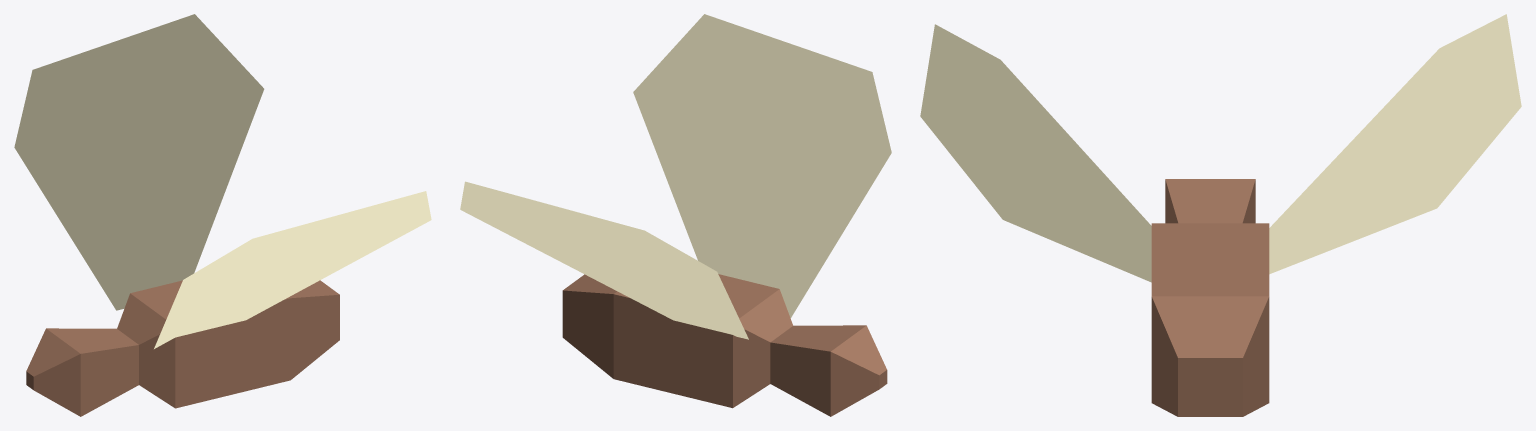
The model's file is MothMesh.fbx.
3 views of the same model, side by side, from view 1: azimuth 30°, elevation 25°; view 2: azimuth 150°, elevation 25°; view 3: azimuth 270°, elevation 25° (orthographic). The views are drawn at different scales.
Parts seen in each view (by area): view 1: Cube.384; view 2: Cube.384; view 3: Cube.384.
Part boxes in pixels (x1=…): Cube.384: x1=14, y1=14, x2=431, y2=416; Cube.384: x1=460, y1=14, x2=891, y2=416; Cube.384: x1=920, y1=14, x2=1521, y2=416.
Bounding box in the file's own units: 29.15 × 21.72 × 36.31.
